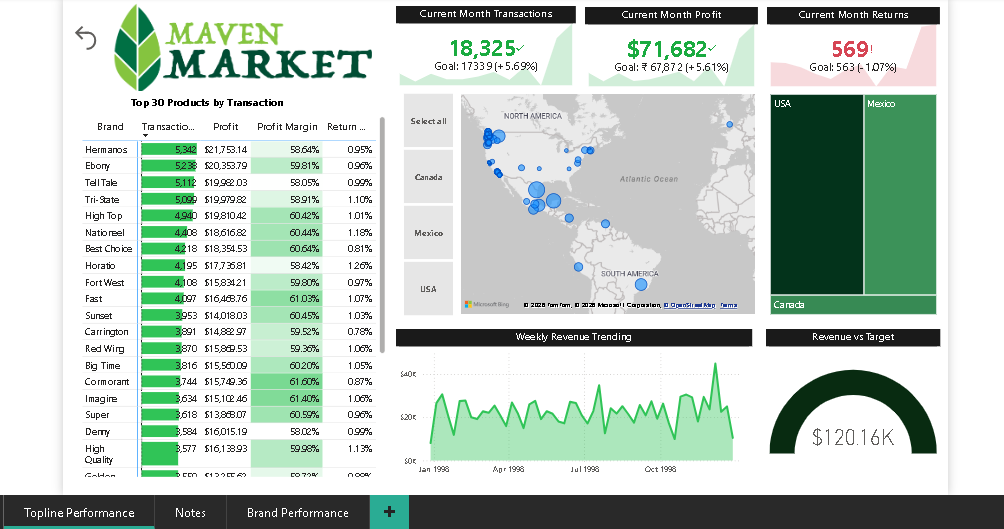

The page's visual inventory and layout, read from the dashboard file:
{"tool":"powerbi","page":{"name":"Topline Performance","canvas":[1280,720],"ordinal":0},"visuals":[{"type":"pivotTable","fields":{"Values":["Measures Table.Total Transactions","Measures Table.Total Profit","Measures Table.Profit Margin","Measures Table.Return Rate"],"Rows":["Products.product_brand"]},"box":[23.1,167.7,448.2,530.6],"z":0},{"type":"kpi","title":"Current Month Transactions","fields":{"Indicator":["Measures Table.Total Transactions"],"TrendLine":["Calendar.Start of Month"],"Goal":["Measures Table.Last Month Transaction"]},"box":[481.4,13,260.2,120],"z":1000},{"type":"kpi","title":"Current Month Profit","fields":{"TrendLine":["Calendar.Start of Month"],"Goal":["Measures Table.Last Month Profit"],"Indicator":["Measures Table.Total Profit"]},"box":[754.8,14.3,250,119.8],"z":2000},{"type":"kpi","title":"Current Month Returns","fields":{"TrendLine":["Calendar.Start of Month"],"Indicator":["Measures Table.Total Returns"],"Goal":["Measures Table.Last Month Return"]},"box":[1017.8,14.5,250.1,120],"z":3000},{"type":"image","box":[46.3,0,425.1,148.9],"z":4000},{"type":"map","fields":{"Size":["Measures Table.Total Transactions"],"Category":["Customers.customer_city"]},"box":[570.9,135.4,434,328.1],"z":5000},{"type":"slicer","fields":{"Values":["Customers.customer_country"]},"box":[469.3,135.4,114.8,328.1],"z":6000},{"type":"treemap","fields":{"Group":["Customers.customer_country","Stores.store_state","Stores.store_city"],"Values":["Measures Table.Total Transactions"]},"box":[1018.1,135.4,250.1,328.1],"z":7000},{"type":"areaChart","title":"Weekly Revenue Trending","fields":{"Category":["Calendar.Start of Week"],"Y":["Measures Table.Total Revenue"]},"box":[481.1,479.6,514.9,219.2],"z":8000},{"type":"gauge","title":"Revenue vs Target","fields":{"Y":["Measures Table.Total Revenue"],"MaxValue":["Measures Table.Revenue Target"]},"box":[1016,480,252,219],"z":9000},{"type":"textbox","box":[34.7,135.9,347,36.1],"z":11000},{"type":"actionButton","box":[10,10,45.6,98.6],"z":12000}]}

Visuals, with their boxes on the page's 1280x720 design canvas (x1, y1, x2, y2). These are canvas units, not pixel positions in the 1004x529 screenshot, which may show the page scaled, cropped or inside an application window:
pivotTable - Measures Table.Total Transactions x Measures Table.Total Profit: {"x1": 23, "y1": 168, "x2": 471, "y2": 698}
"Current Month Transactions" kpi: {"x1": 481, "y1": 13, "x2": 742, "y2": 133}
"Current Month Profit" kpi: {"x1": 755, "y1": 14, "x2": 1005, "y2": 134}
"Current Month Returns" kpi: {"x1": 1018, "y1": 14, "x2": 1268, "y2": 134}
image: {"x1": 46, "y1": 0, "x2": 471, "y2": 149}
map - Measures Table.Total Transactions x Customers.customer_city: {"x1": 571, "y1": 135, "x2": 1005, "y2": 464}
slicer - Customers.customer_country: {"x1": 469, "y1": 135, "x2": 584, "y2": 464}
treemap - Customers.customer_country x Stores.store_state: {"x1": 1018, "y1": 135, "x2": 1268, "y2": 464}
"Weekly Revenue Trending" areaChart: {"x1": 481, "y1": 480, "x2": 996, "y2": 699}
"Revenue vs Target" gauge: {"x1": 1016, "y1": 480, "x2": 1268, "y2": 699}
textbox: {"x1": 35, "y1": 136, "x2": 382, "y2": 172}
actionButton: {"x1": 10, "y1": 10, "x2": 56, "y2": 109}
